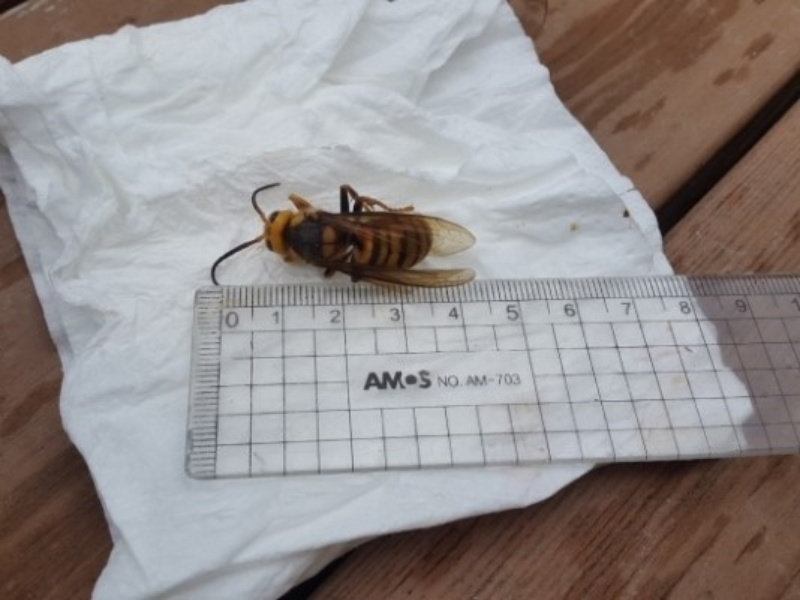asian_giant_hornet: (210, 178, 476, 292)
